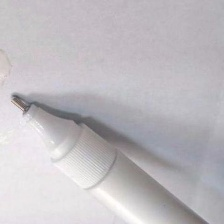correction_fluid: (5, 92, 224, 224)
